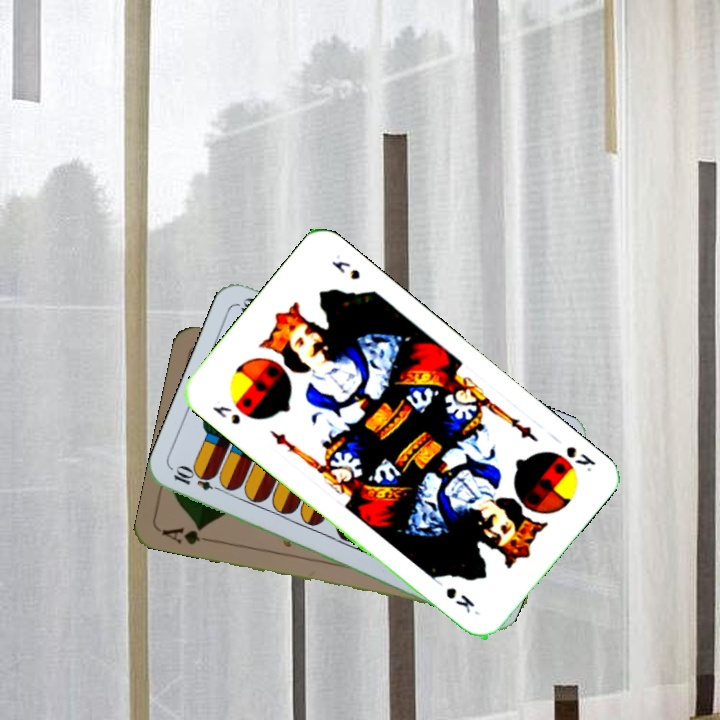E10: (169, 464, 228, 495)
GA: (158, 522, 217, 548)
SK: (561, 442, 599, 475), (208, 401, 243, 427)
